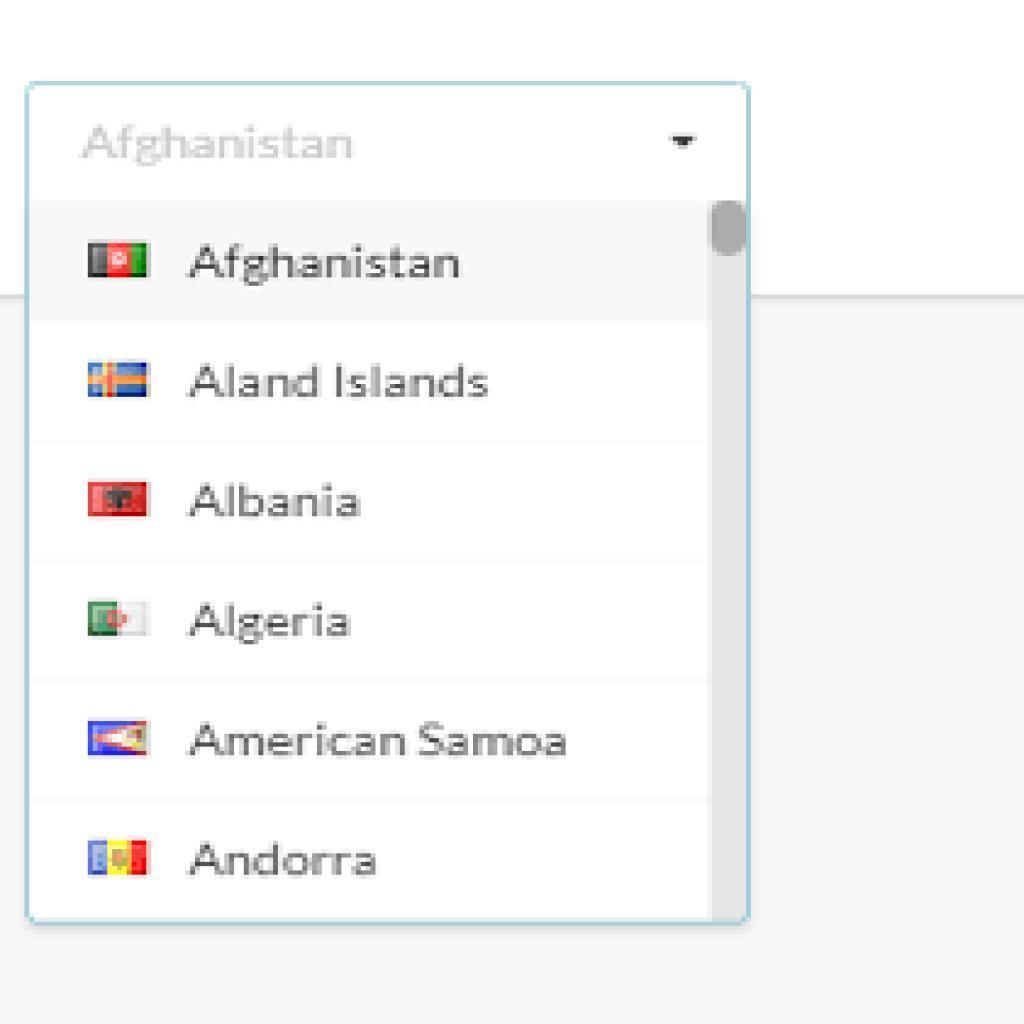dropdown: (26, 83, 750, 200)
label: (185, 717, 574, 765), (180, 354, 497, 407), (192, 234, 464, 285), (185, 838, 385, 884), (184, 480, 368, 523), (188, 597, 355, 644)
